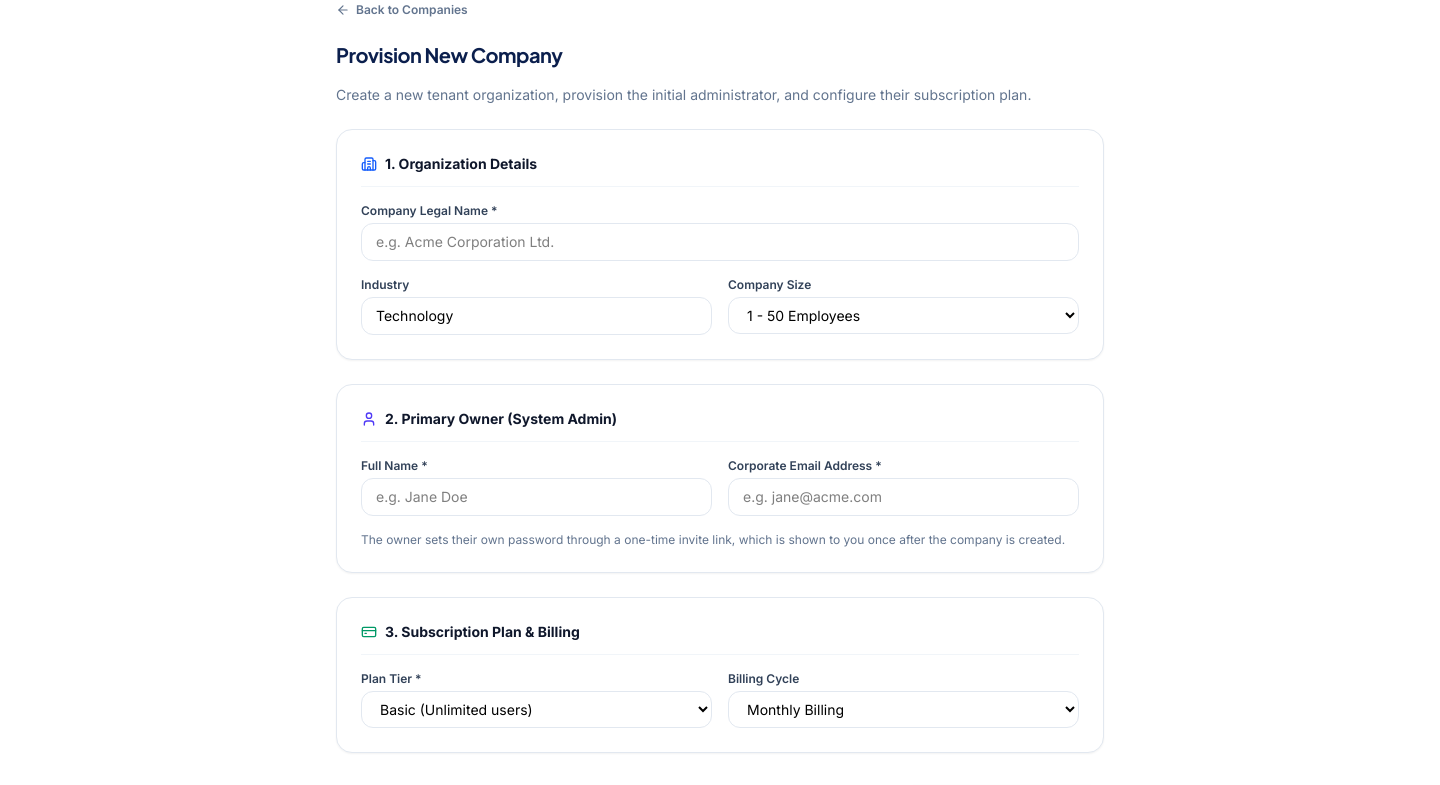
CompanyProvision owner invite › submits without a password and shows the temporary password once
Type "Acme Ltd" into the field with placeholder "e.g. Acme Corporation Ltd.".
click(720, 242); type("Acme Ltd")  # box [361, 223, 1079, 261]
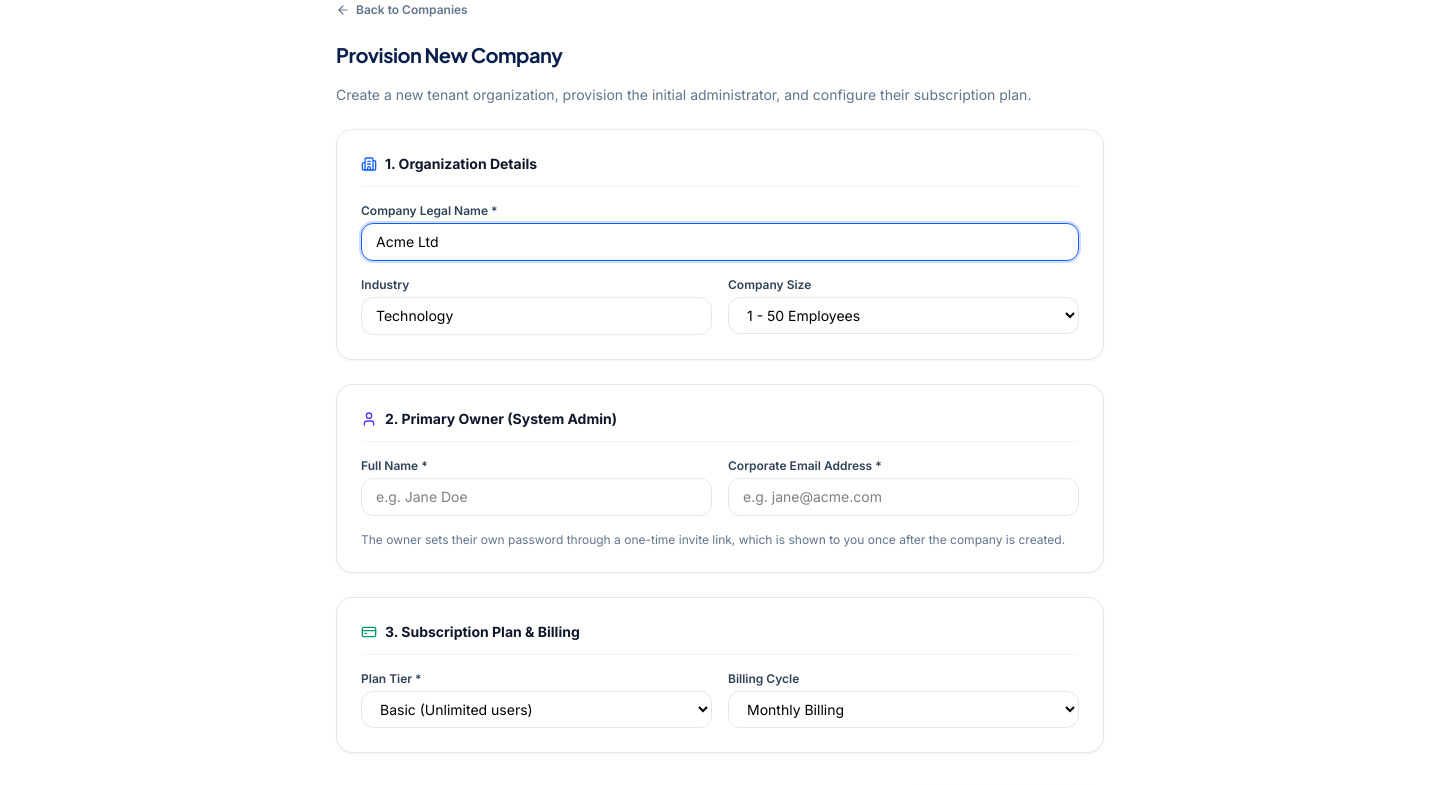
Type "Jane Doe" into the field with placeholder "e.g. Jane Doe".
click(536, 497); type("Jane Doe")  # box [361, 478, 712, 516]
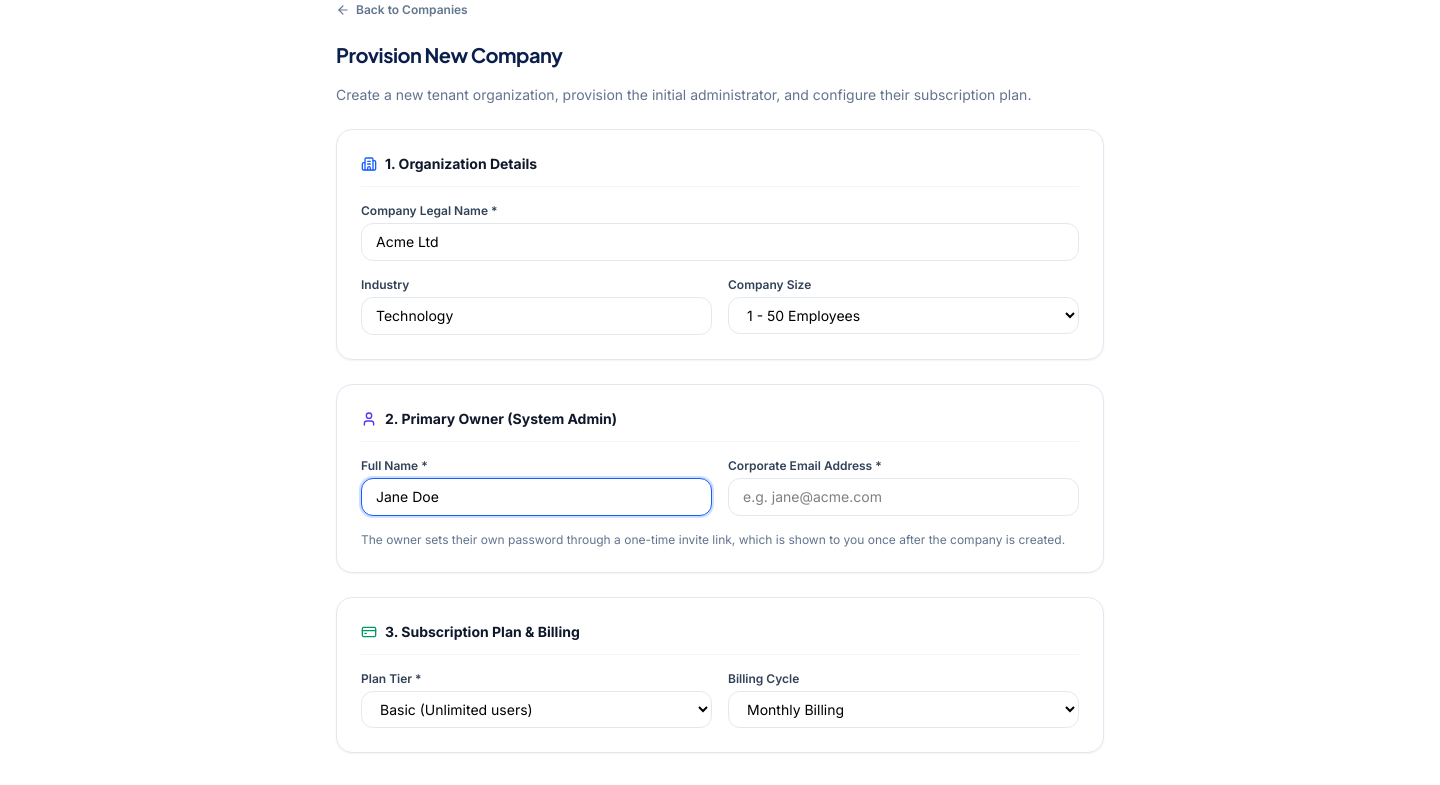
Type "jane@acme.com" into the field with placeholder "e.g. jane@acme.com".
click(904, 497); type("jane@acme.com")  # box [728, 478, 1079, 516]
(page scrolled)
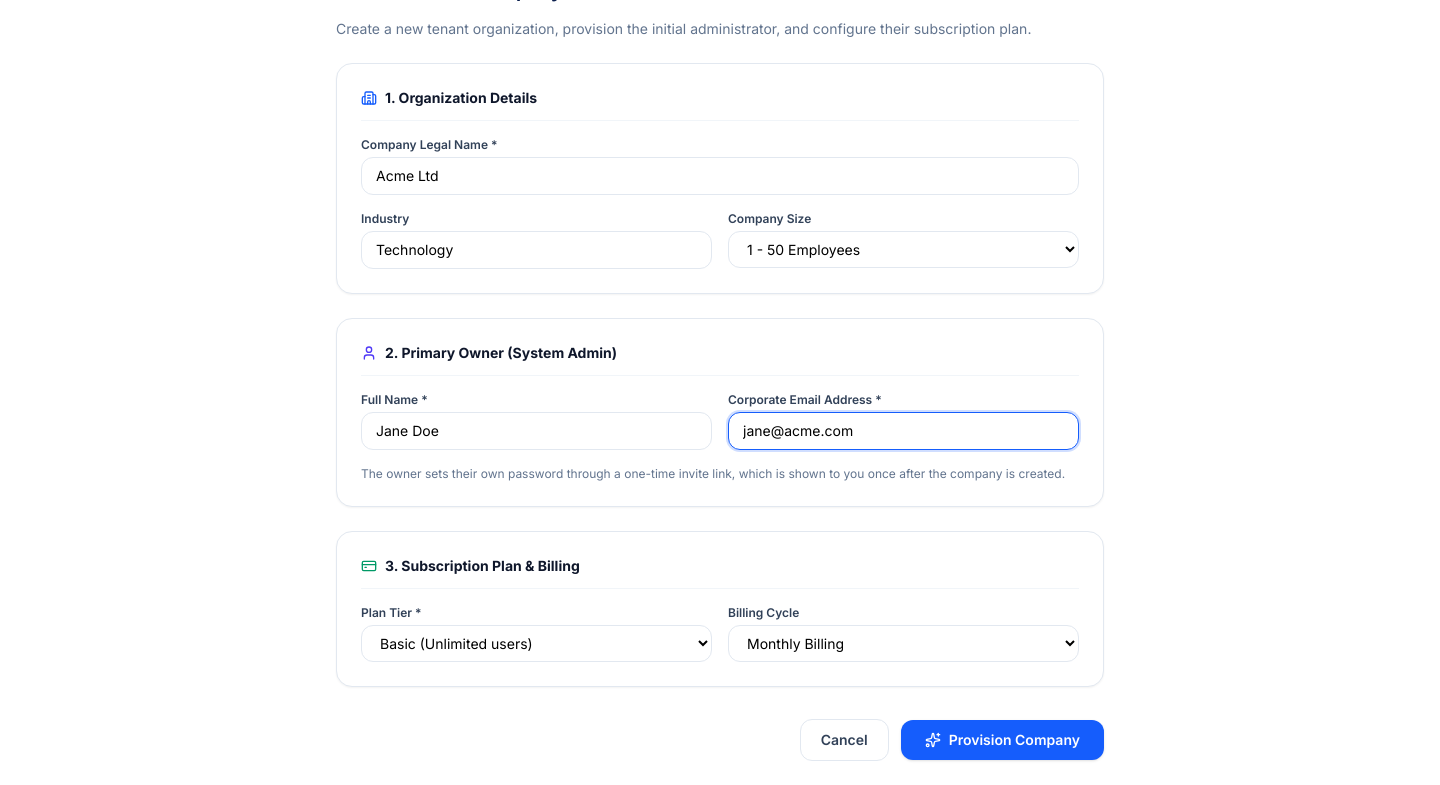
Click the button "Provision Company".
click(1002, 740)  # box [901, 720, 1104, 760]
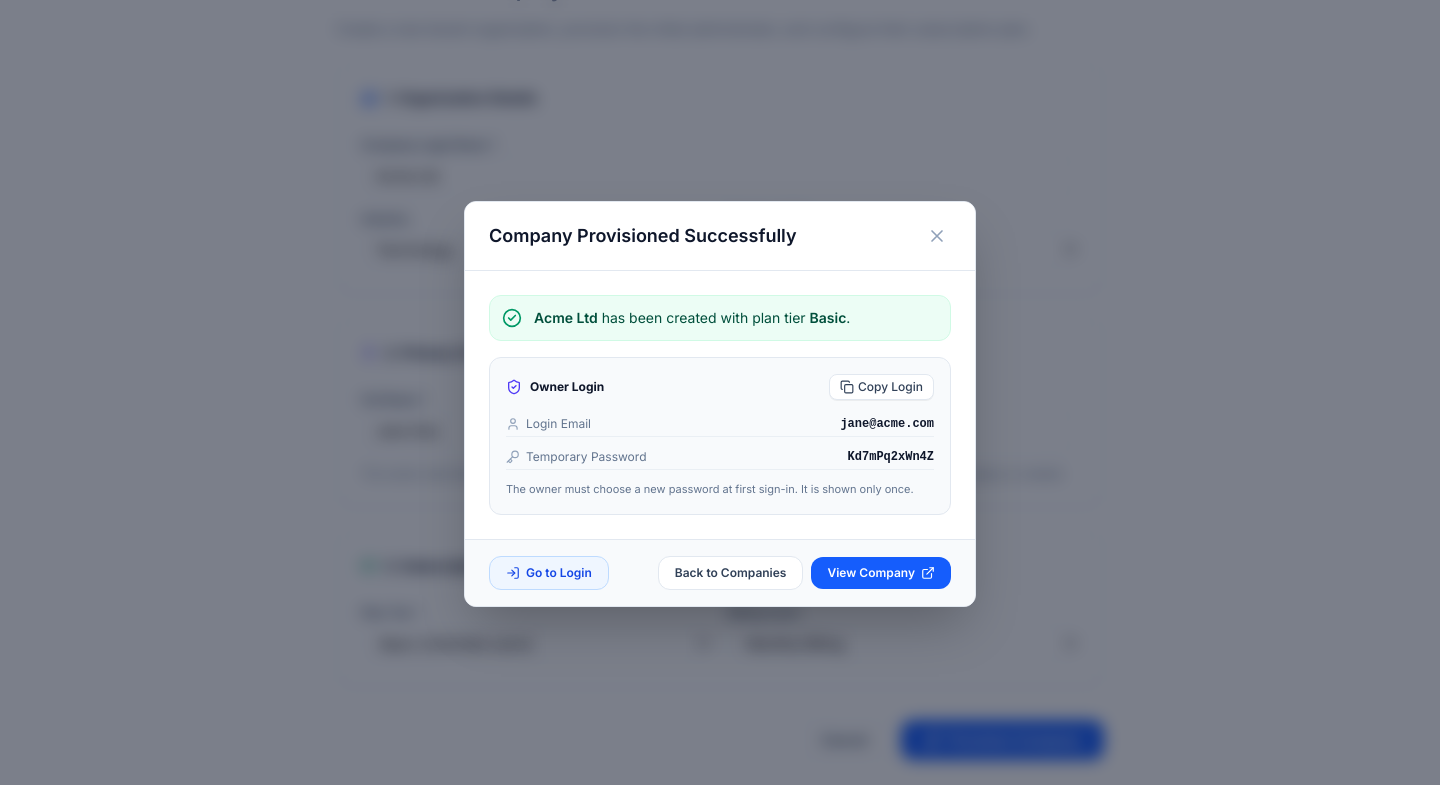
Now the text "Kd7mPq2xWn4Z" is shown, box [848, 449, 934, 465]
Now the text "must choose a new password at first sign-in" is shown, box [506, 482, 914, 496]
